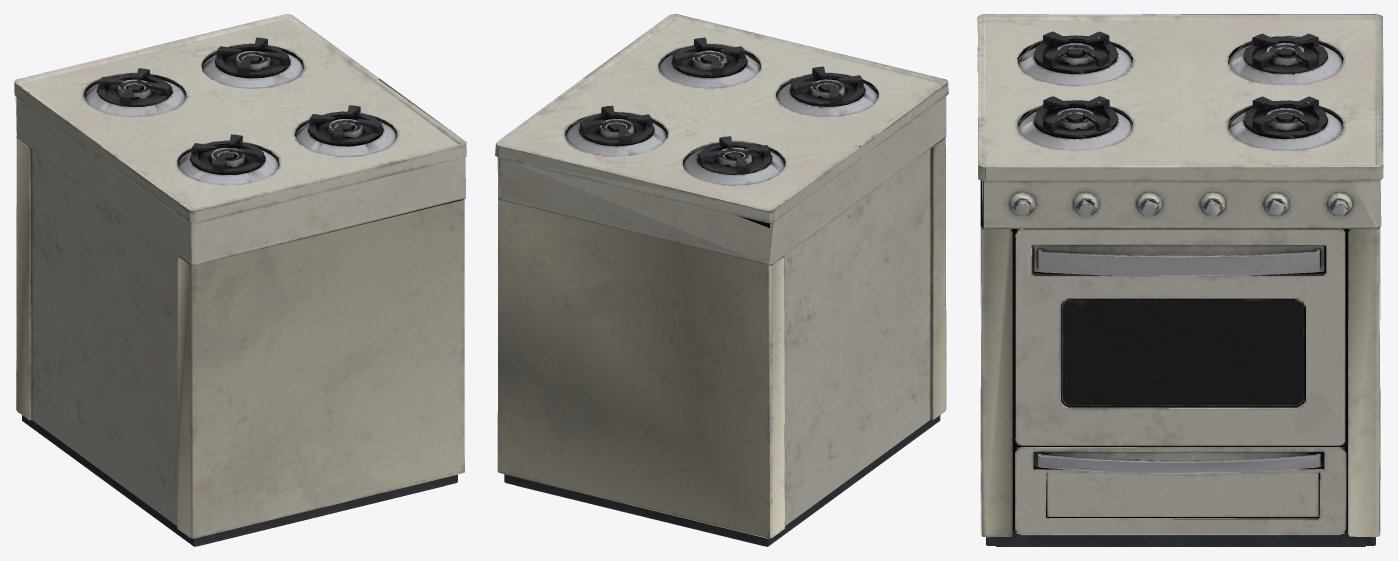
File: hob.glb
3 views of the same model, side by side, from view 1: azimuth 30°, elevation 25°; view 2: azimuth 150°, elevation 25°; view 3: azimuth 270°, elevation 25° (orthographic). The views are drawn at different scales.
Visible parts, largest first — view 1: defaultMaterial; view 2: defaultMaterial; view 3: defaultMaterial.
Part boxes in pixels (<box>): defaultMaterial: <box>14,14,466,546</box>; defaultMaterial: <box>495,14,948,546</box>; defaultMaterial: <box>977,14,1383,546</box>.
Size of the model in its own units: 0.58 by 0.6817 by 0.6232.
Materials: 1 (1 with a texture image).
